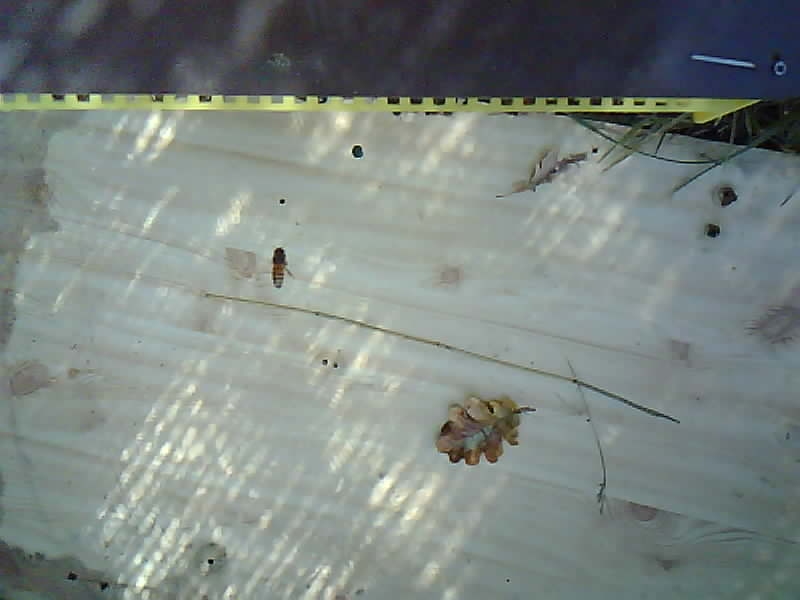bee: (271, 243, 291, 290)
